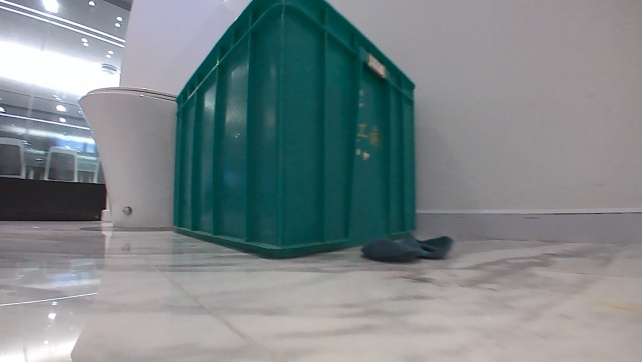socks: (355, 229, 456, 264)
toilet: (74, 83, 178, 231)
